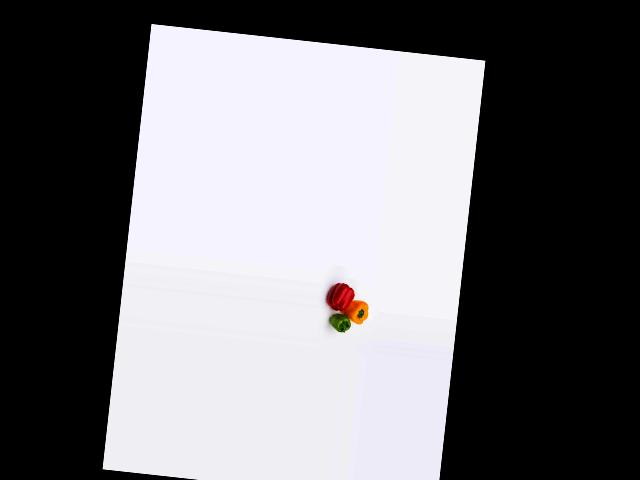bell_pepper: (327, 311, 353, 338)
